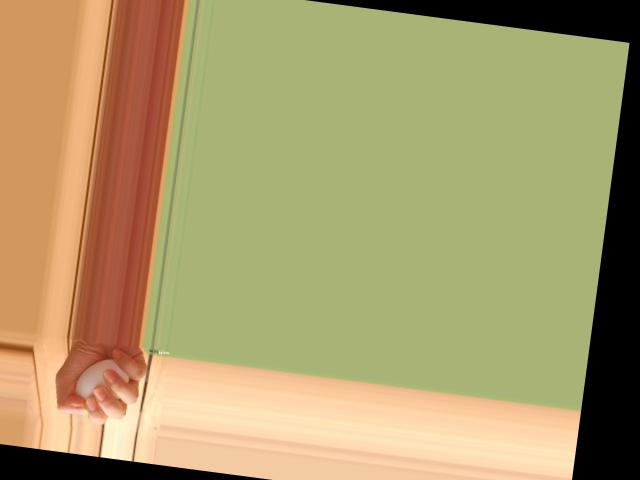egg: (73, 354, 132, 409)
